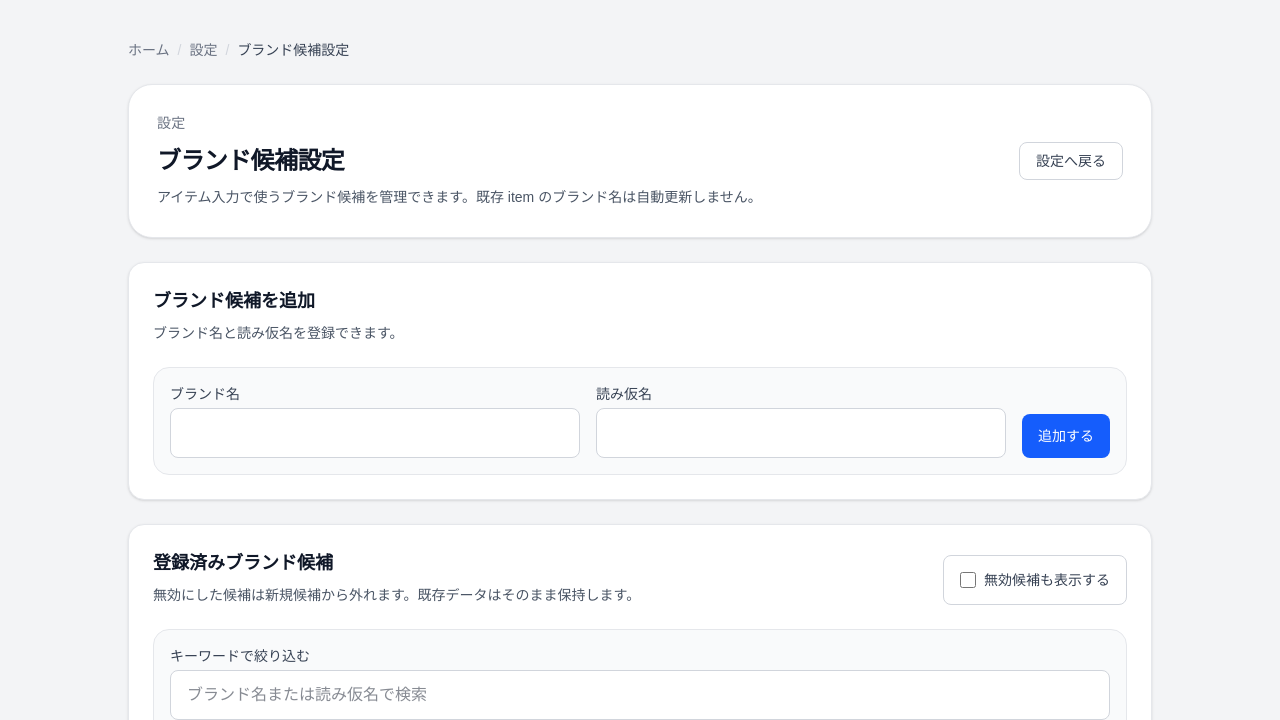
Test: SettingsBrandsPage › 422 validation では具体的な項目エラーを表示する
The width and height of the screenshot is (1280, 720).
Click the button "追加する" at (1066, 436), box x1=1022 y1=414 x2=1110 y2=458
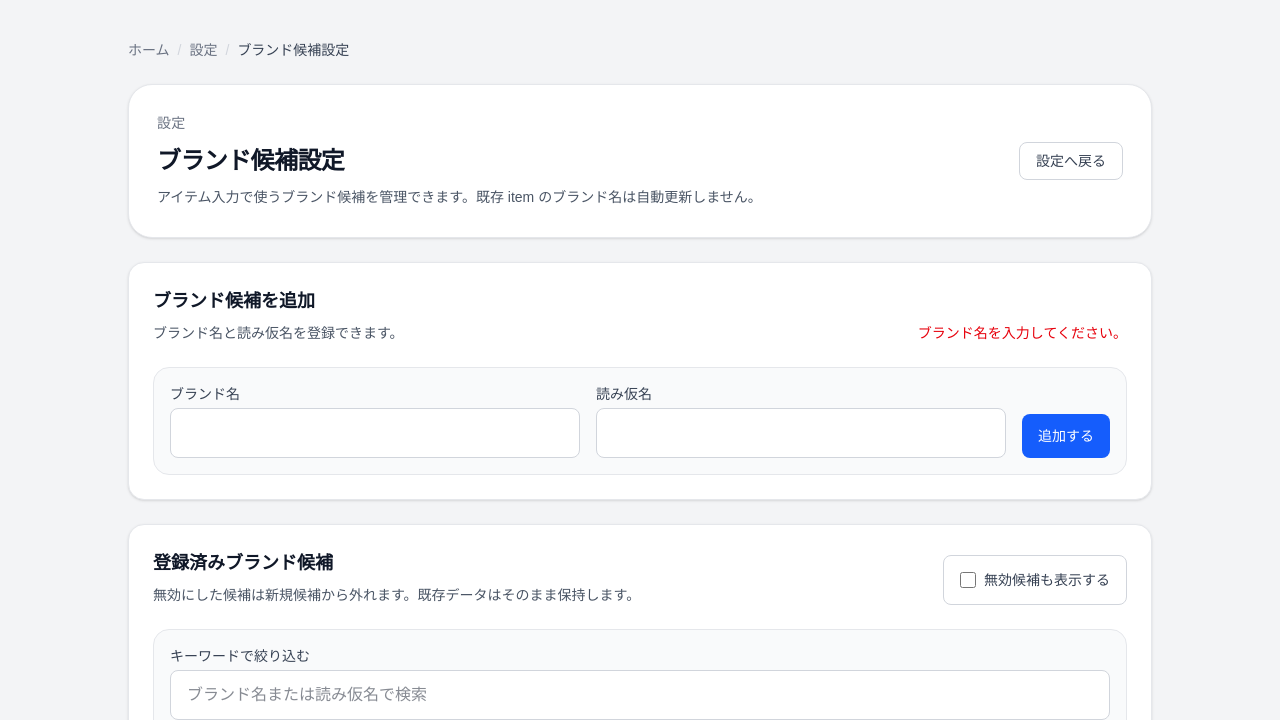
Check: the text "ブランド名を入力してください。" is shown, box x1=918 y1=323 x2=1127 y2=343
